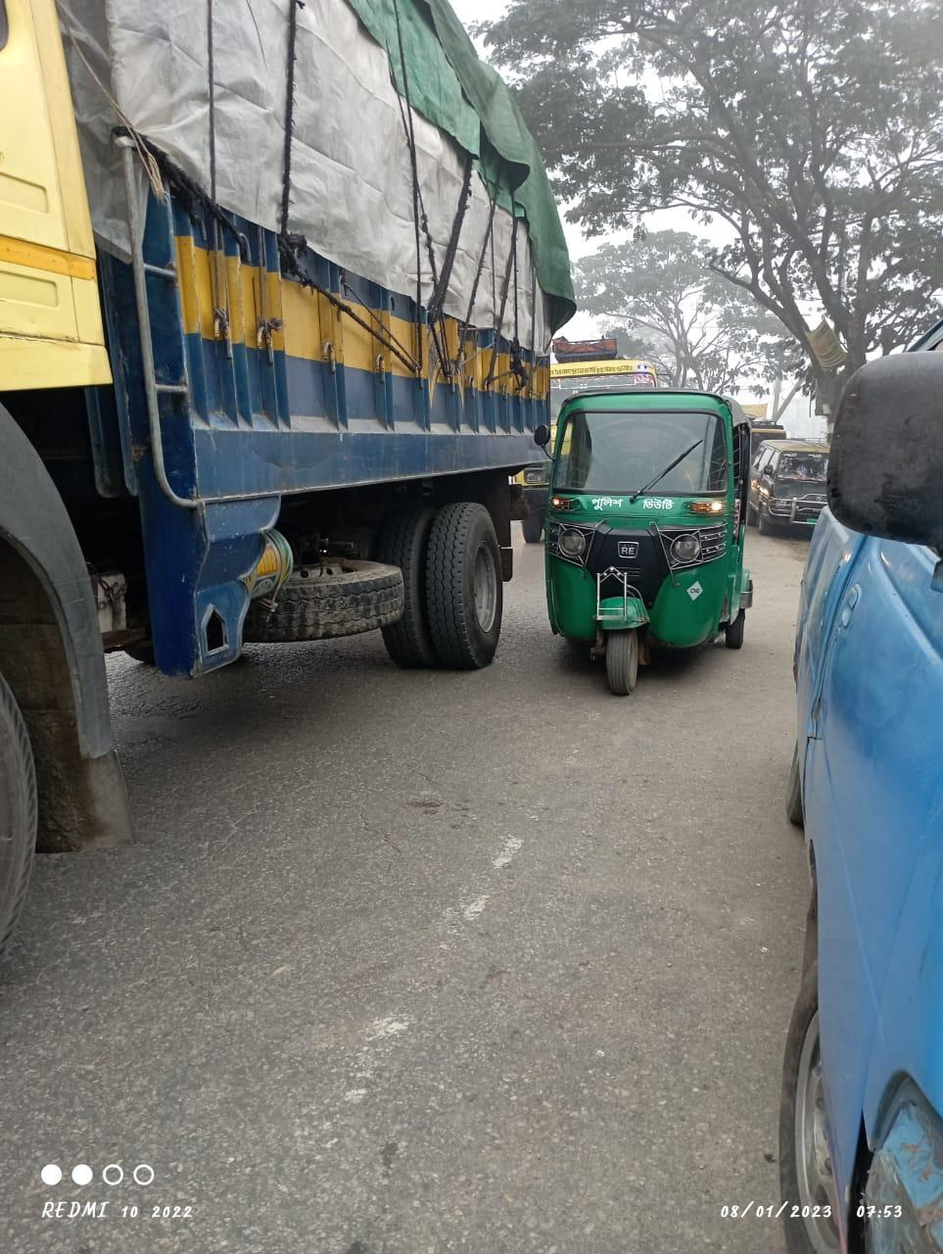Car: (783, 302, 943, 1254), (758, 423, 835, 541)
Truck: (2, 1, 548, 712)
